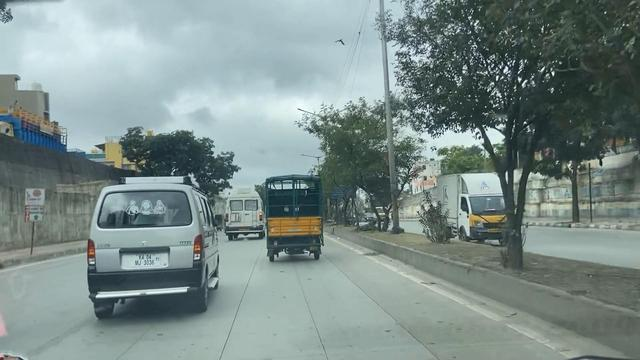HMV: (254, 175, 336, 271), (226, 186, 264, 237)
LMV: (97, 171, 228, 318)
